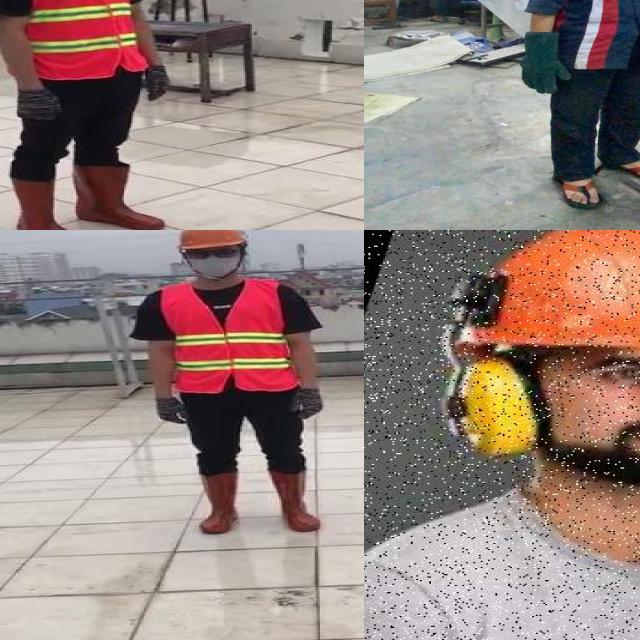Ear-protection: (441, 340, 537, 464)
boots: (70, 160, 168, 230), (13, 171, 86, 230), (268, 469, 324, 533), (194, 469, 244, 535)
face_mask: (181, 245, 242, 278)
glasses: (181, 245, 242, 261)
hand_glove: (514, 30, 577, 94), (10, 87, 67, 122), (142, 60, 177, 102), (286, 389, 324, 422), (154, 398, 193, 425)
head_helmet: (467, 230, 640, 362), (173, 230, 246, 251)
person: (130, 230, 338, 537), (0, 0, 175, 230), (523, 0, 640, 213)
vest: (160, 280, 299, 393), (0, 0, 150, 82)
